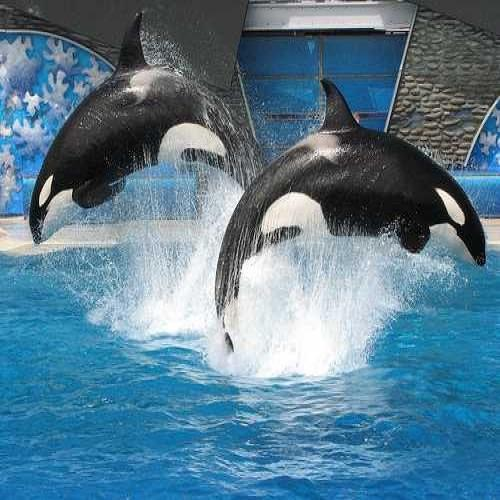killer_whale-endangered: (212, 73, 490, 396), (16, 12, 288, 251)
